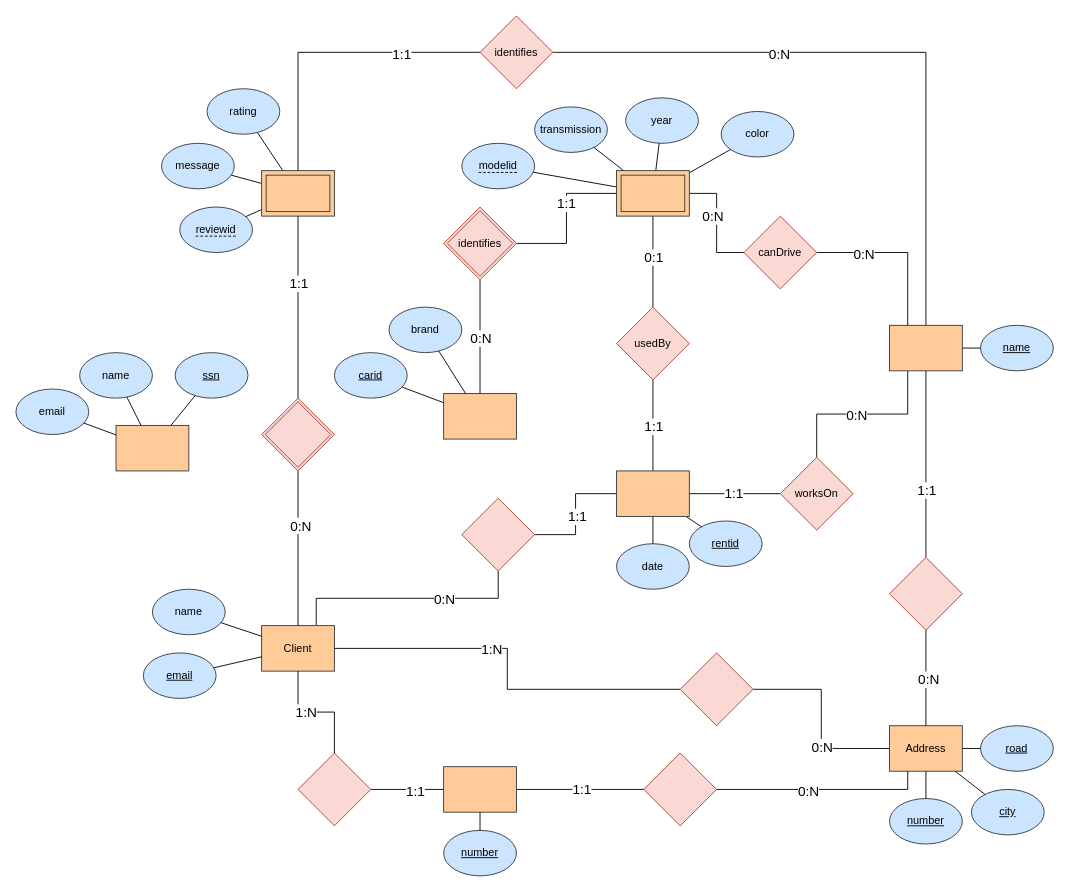
Image size: 1069x892. Some labels were removed from this diagram. Each missing label, with the centre of its shape:
billedTo: the point at 680,789
books: the point at 498,534
Car: the point at 479,416
CreditCard: the point at 479,789
Driver: the point at 925,347
hasAddress: the point at 716,689
livesAt: the point at 925,593
Manager: the point at 152,448
Model: the point at 652,193
owns: the point at 334,789
places: the point at 297,434
Rent: the point at 652,493
Review: the point at 297,193
